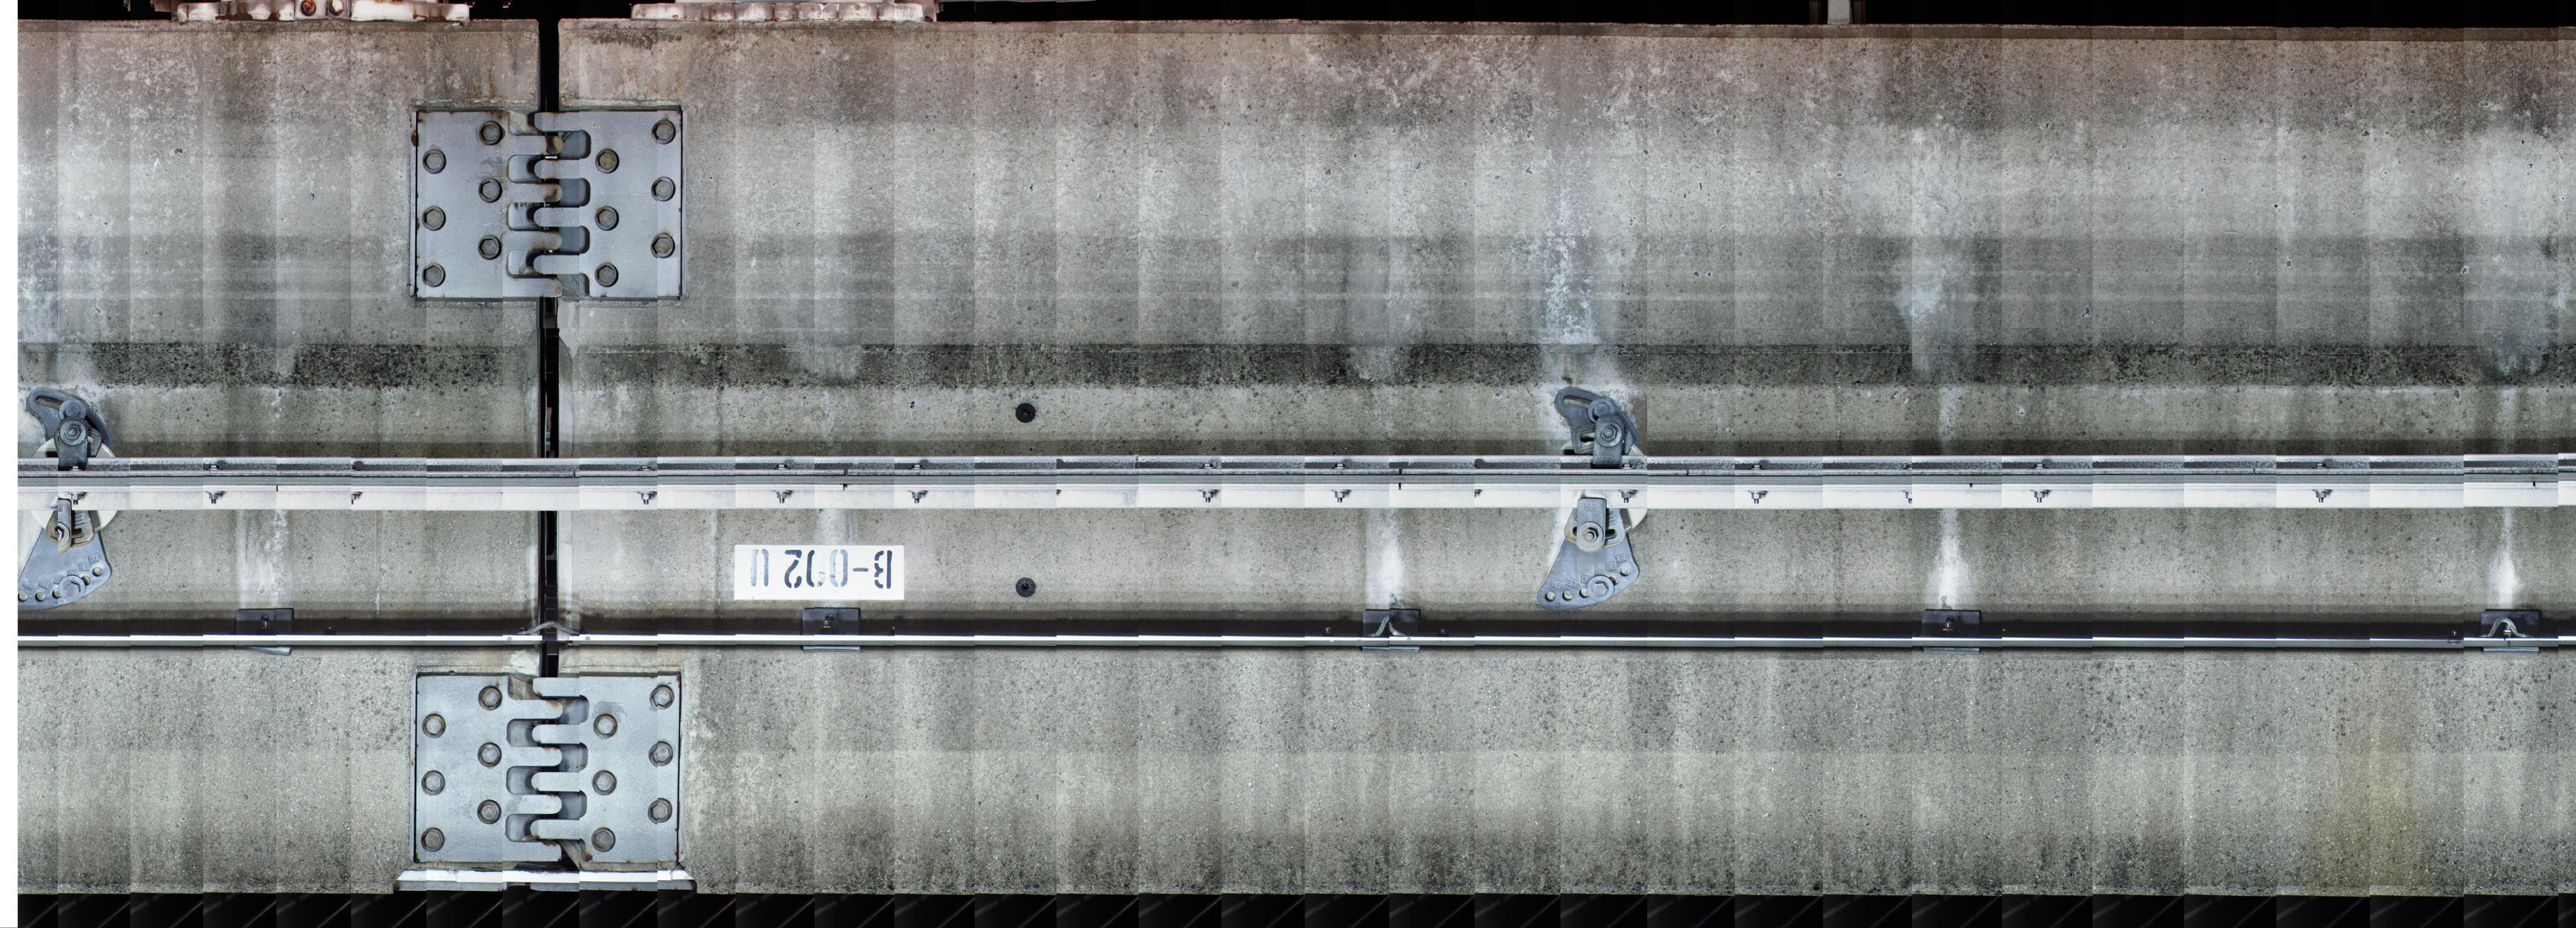concrete: (560, 18, 2574, 453), (562, 509, 2568, 898), (18, 18, 537, 460), (21, 509, 540, 897)
